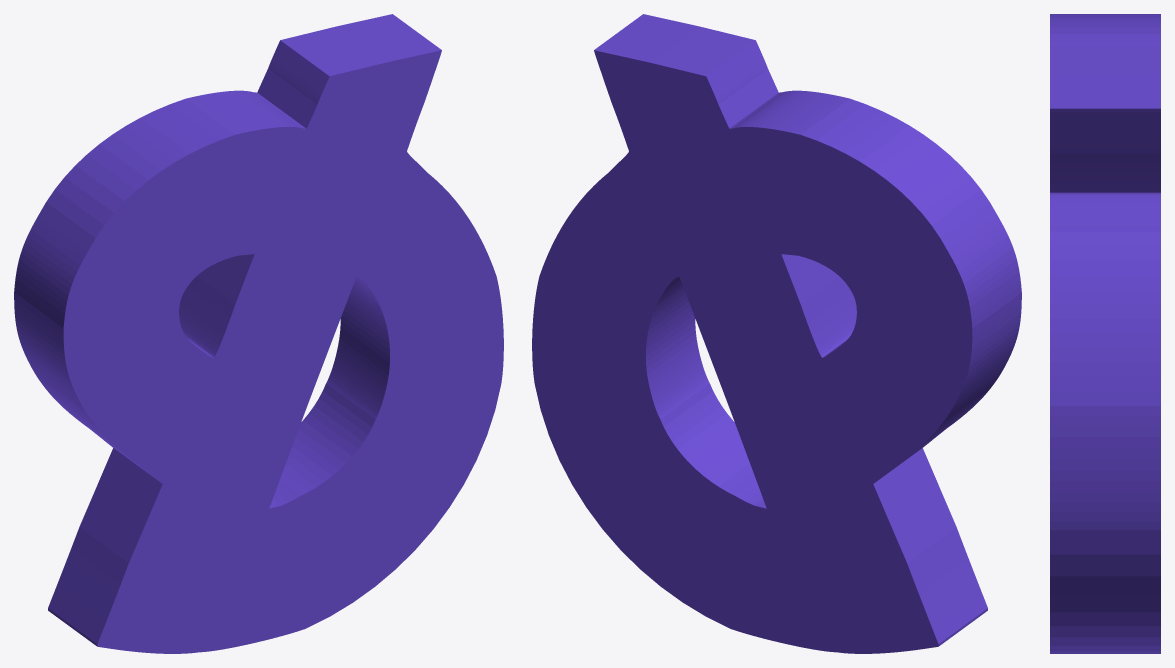
File: digisoc.glb
3 views of the same model, side by side, from view 1: azimuth 30°, elevation 25°; view 2: azimuth 150°, elevation 25°; view 3: azimuth 270°, elevation 25° (orthographic). The views are drawn at different scales.
Parts seen in each view (by area): view 1: Curve; view 2: Curve; view 3: Curve.
Boxes of the visible parts, box(x1,y1,x2,y2) form: Curve: box(14, 14, 503, 653); Curve: box(532, 14, 1021, 653); Curve: box(1050, 14, 1160, 653).
Bounding box in the file's own units: 0.1541 × 0.1834 × 0.03.
